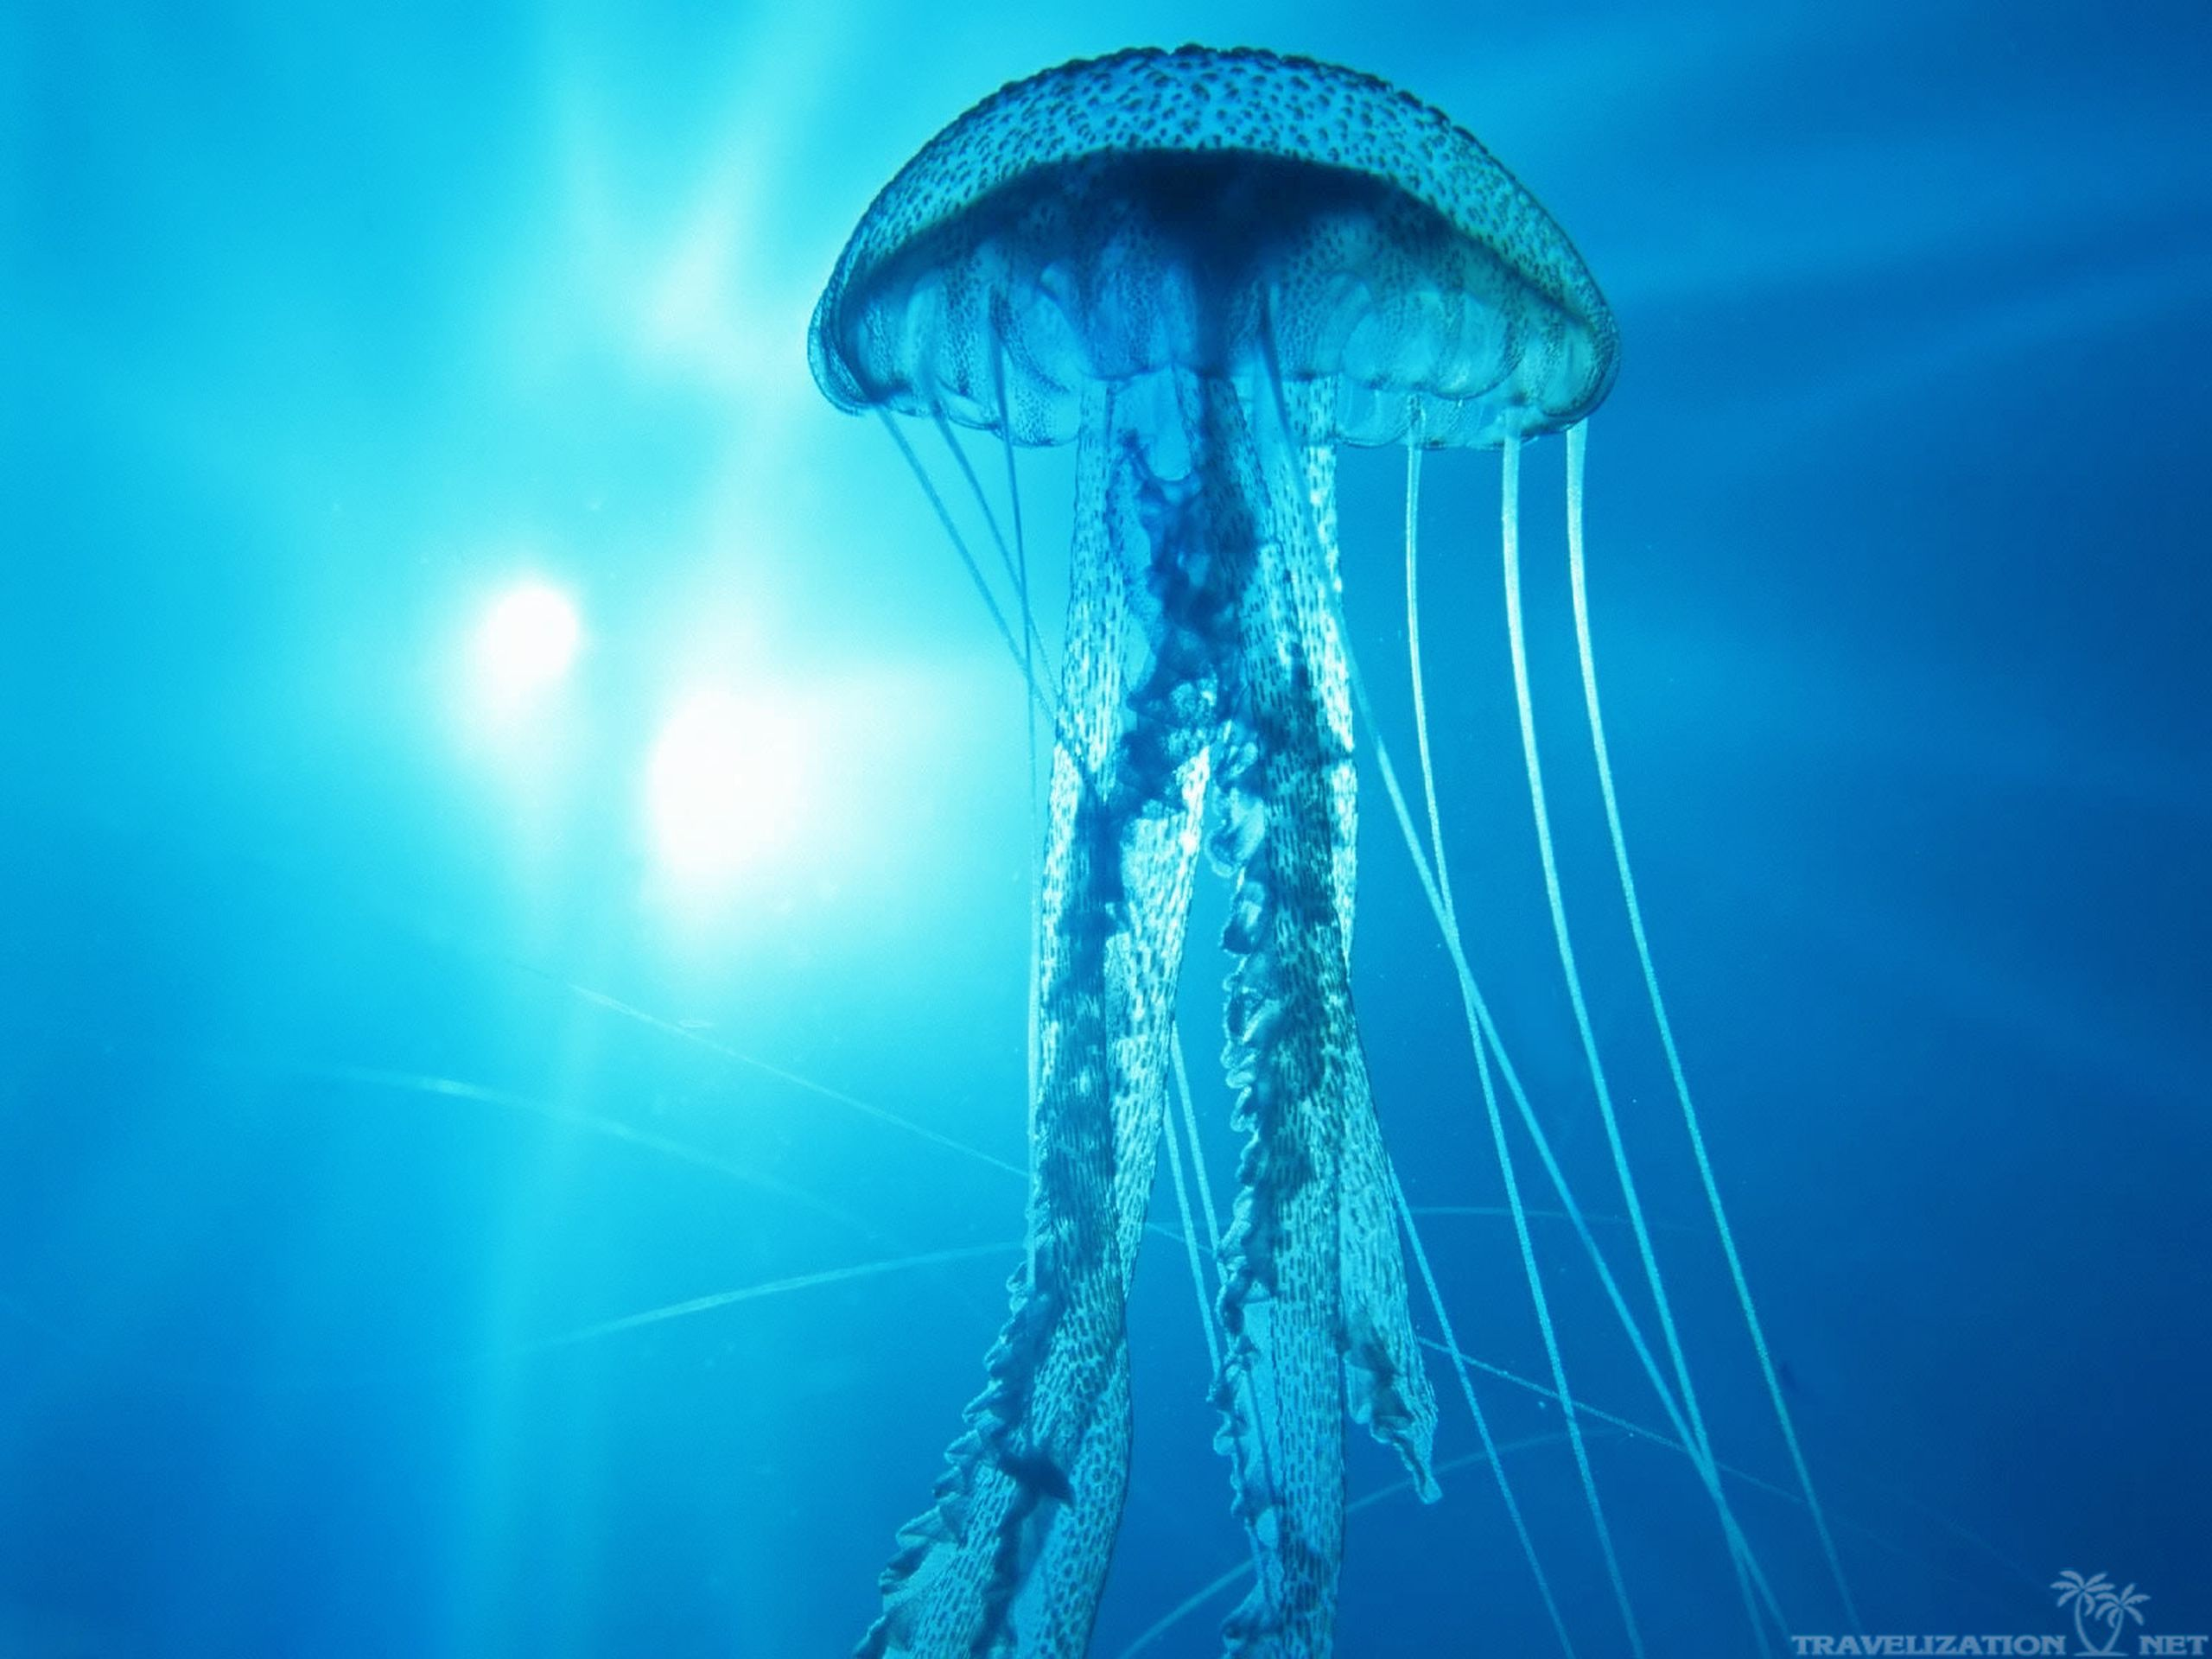jellyfish: (759, 9, 1738, 1659)
